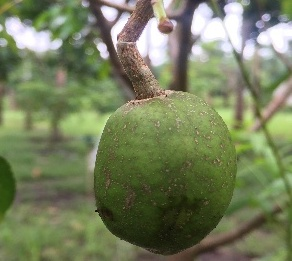Coc: (94, 89, 237, 250)
